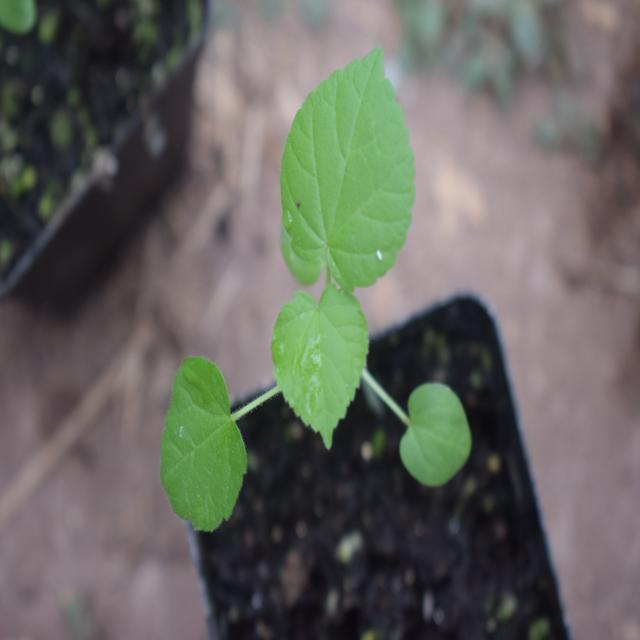abutilon theophrasti: (155, 46, 465, 540)
